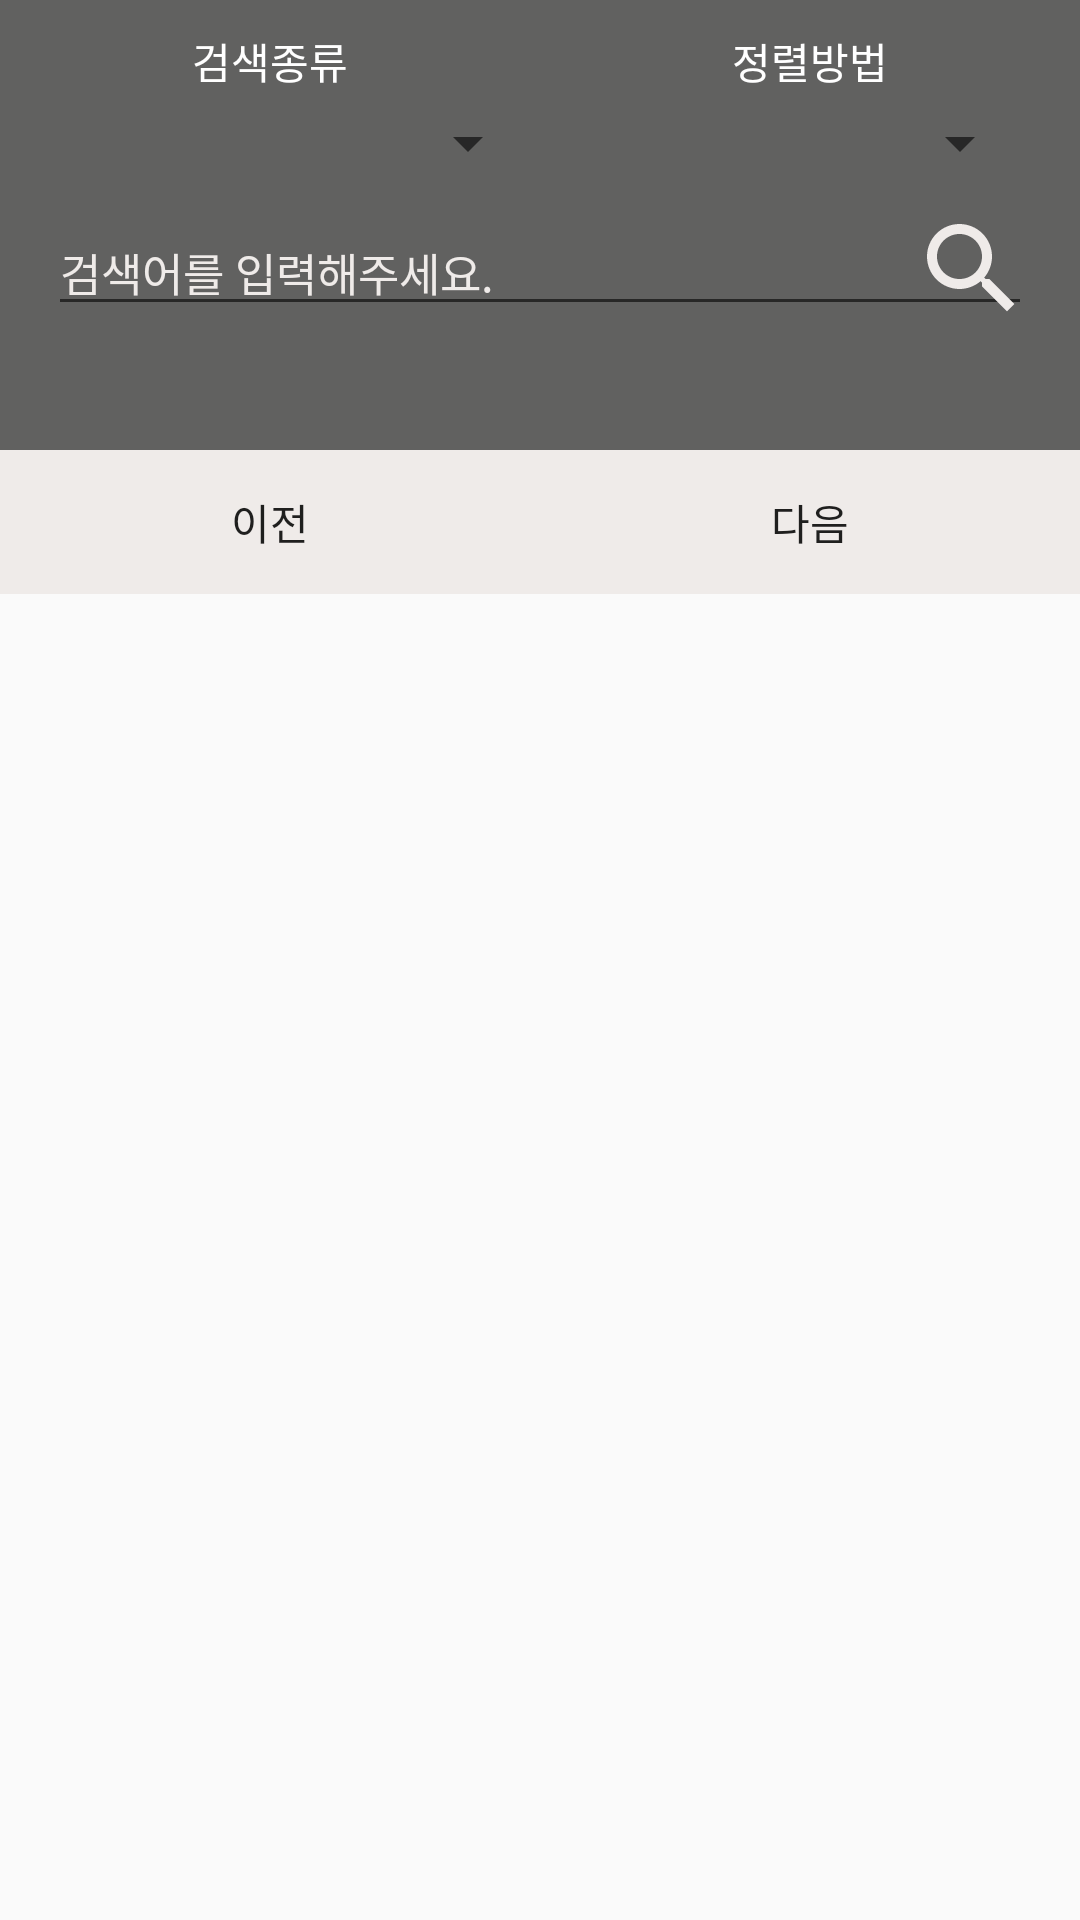

Screen size 1080*1920. Icon name, then its center in pixels as [x,y]:
search: [966,267]
